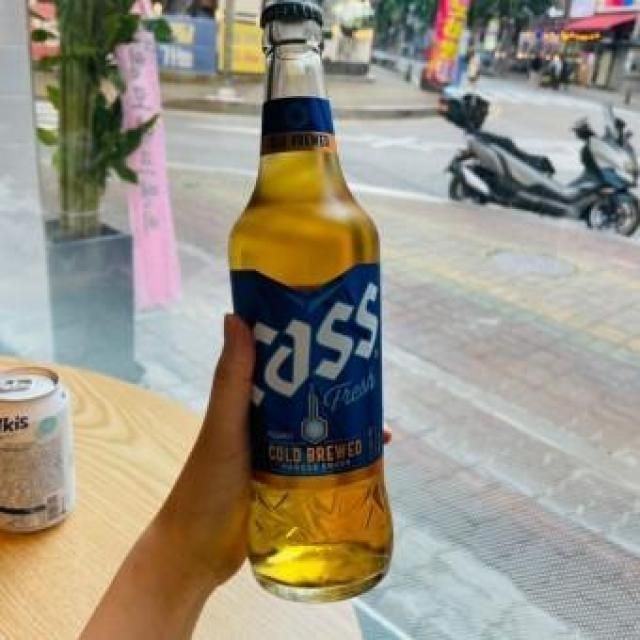beer-bottle: (228, 0, 403, 600)
